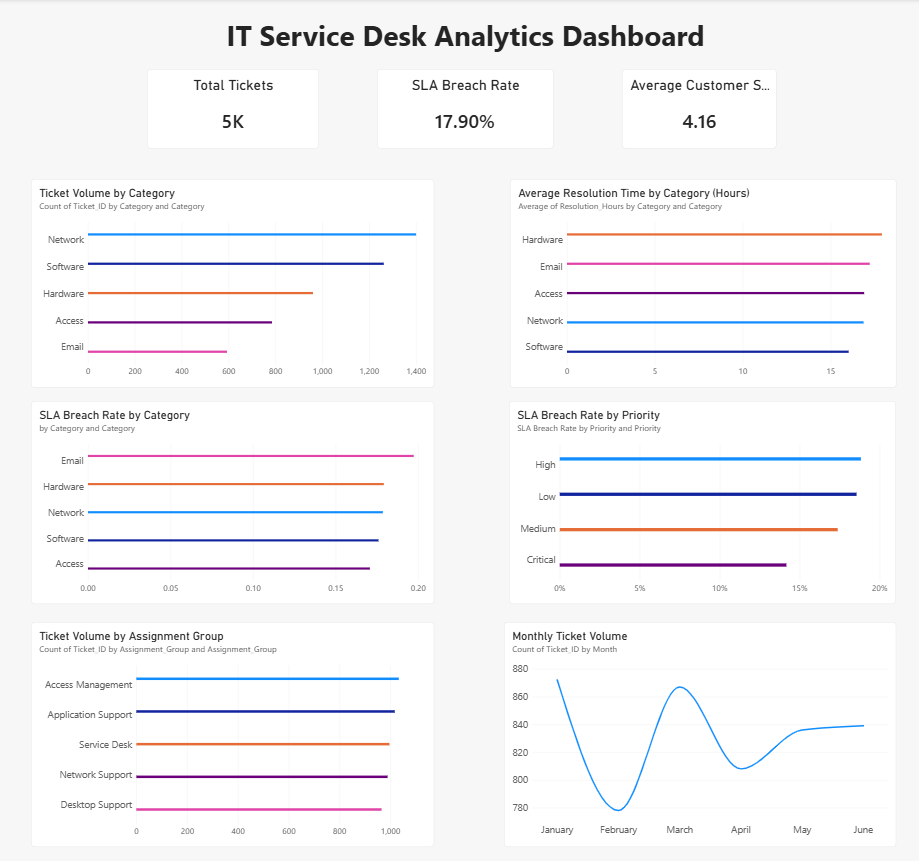

What the dashboard file says about the page in this screenshot:
{"tool":"powerbi","page":{"name":"Page 1","canvas":[1920,1800],"ordinal":0},"visuals":[{"type":"cardVisual","title":"Total Tickets","fields":{"Data":["it_service_analytics incidents.Total Tickets"]},"box":[309,146.2,358.9,165.7],"z":0},{"type":"cardVisual","title":"SLA Breach Rate","fields":{"Data":["it_service_analytics incidents.SLA Breach Rate"]},"box":[789.3,146.2,368.8,165.7],"z":1000},{"type":"clusteredBarChart","title":"Ticket Volume by Category","fields":{"Category":["it_service_analytics incidents.Category"],"Series":["it_service_analytics incidents.Category"],"Y":["CountNonNull(it_service_analytics incidents.Ticket_ID)"]},"box":[66.8,375.9,842.1,435.8],"z":2000},{"type":"clusteredBarChart","title":"Average Resolution Time by Category (Hours)","fields":{"Category":["it_service_analytics incidents.Category"],"Series":["it_service_analytics incidents.Category"],"Y":["Avg(it_service_analytics incidents.Resolution_Hours)"]},"box":[1067.1,375.9,806.6,435.8],"z":3000},{"type":"clusteredBarChart","fields":{"Category":["it_service_analytics incidents.Category"],"Series":["it_service_analytics incidents.Category"],"Y":["it_service_analytics incidents.SLA Breach Rate by Category"]},"box":[66.8,839.4,841.5,423.9],"z":4000},{"type":"clusteredBarChart","title":"SLA Breach Rate by Priority","fields":{"Category":["it_service_analytics incidents.Priority"],"Series":["it_service_analytics incidents.Priority"],"Y":["it_service_analytics incidents.SLA Breach Rate"]},"box":[1065,839.4,808.1,423.9],"z":5000},{"type":"clusteredBarChart","title":"Ticket Volume by Assignment Group","fields":{"Category":["it_service_analytics incidents.Assignment_Group"],"Series":["it_service_analytics incidents.Assignment_Group"],"Y":["CountNonNull(it_service_analytics incidents.Ticket_ID)"]},"box":[66.8,1300.9,841.5,469.8],"z":6000},{"type":"lineChart","title":"Monthly Ticket Volume","fields":{"Category":["it_service_analytics incidents.Created_Date.Variation.Date Hierarchy.Month"],"Y":["CountNonNull(it_service_analytics incidents.Ticket_ID)"]},"box":[1054.5,1300.9,818.6,469.8],"z":7000},{"type":"cardVisual","title":"Average Customer Satisfaction (out of 5)","fields":{"Data":["Avg(it_service_analytics incidents.Customer_Satisfaction)"]},"box":[1300.9,146.2,323.4,165.7],"z":8000},{"type":"textbox","box":[108.5,35.5,1731.6,140],"z":9000}]}

Visuals, with their boxes in screenshot pixels (x1, y1, x2, y2), scaled from the page's 1920x1800 canvas onto the 919x861 screenshot:
"Total Tickets" cardVisual: (148, 70, 320, 149)
"SLA Breach Rate" cardVisual: (378, 70, 554, 149)
"Ticket Volume by Category" clusteredBarChart: (32, 180, 435, 388)
"Average Resolution Time by Category (Hours)" clusteredBarChart: (511, 180, 897, 388)
clusteredBarChart - it_service_analytics incidents.Category x it_service_analytics incidents.Category: (32, 402, 435, 604)
"SLA Breach Rate by Priority" clusteredBarChart: (510, 402, 897, 604)
"Ticket Volume by Assignment Group" clusteredBarChart: (32, 622, 435, 847)
"Monthly Ticket Volume" lineChart: (505, 622, 897, 847)
"Average Customer Satisfaction (out of 5)" cardVisual: (623, 70, 777, 149)
textbox: (52, 17, 881, 84)
